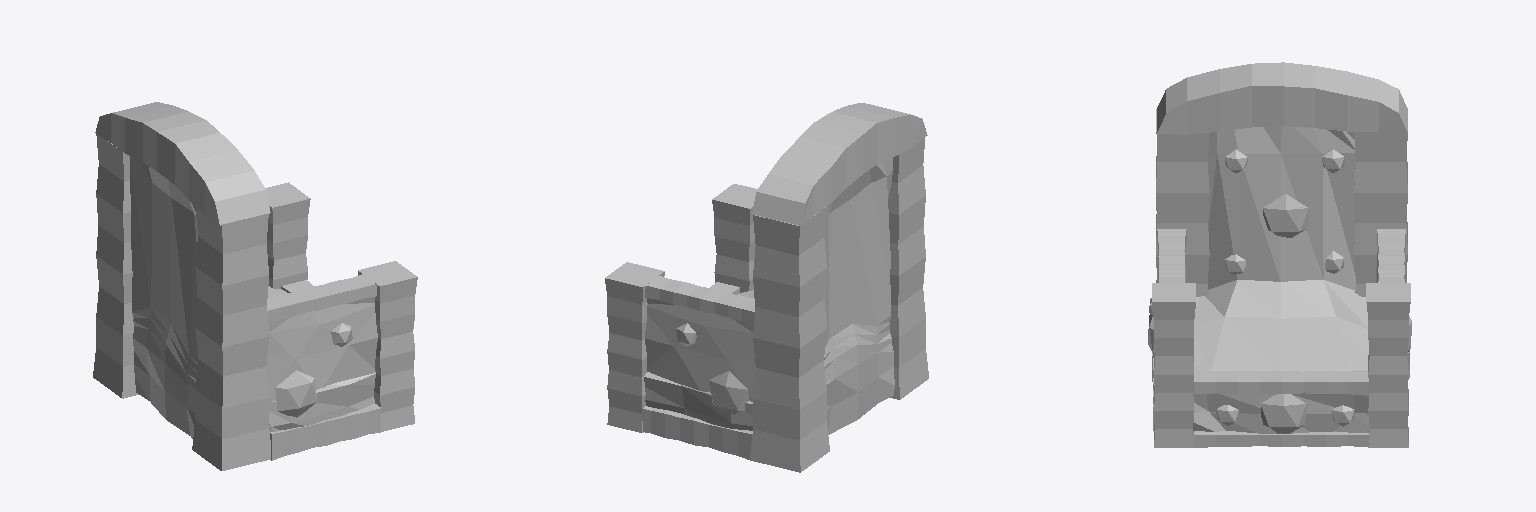
Rendered from Trône Gollémantery.obj.
3 renders of one model, left to right at view 1: azimuth 30°, elevation 25°; view 2: azimuth 150°, elevation 25°; view 3: azimuth 270°, elevation 25°, orthographic.
Visible parts, largest first — view 1: Cube.010_Cube.011, Icosphere.002, Icosphere.015_Icosphere.000, Cube.005_Cube.006, Cube.006_Cube.007, Cube.002_Cube.003, Cube.008_Cube.009, Icosphere.003_Icosphere.006; view 2: Cube.010_Cube.011, Icosphere.002, Icosphere.016_Icosphere.001, Cube.006_Cube.007, Cube.005_Cube.006, Cube.004_Cube.005, Cube.009_Cube.010, Icosphere.008_Icosphere.011; view 3: Icosphere.002, Cube.010_Cube.011, Cube.006_Cube.007, Cube.005_Cube.006, Cube.007_Cube.008, Cube.003_Cube.004, Cube.008_Cube.009, Cube.009_Cube.010, Icosphere_Icosphere.004, Icosphere.001_Icosphere.005.
Boxes of the visible parts, box(x1,y1,x2,y2) form: Cube.010_Cube.011: box(93, 102, 270, 470); Icosphere.002: box(130, 156, 375, 438); Icosphere.015_Icosphere.000: box(266, 297, 377, 401); Cube.005_Cube.006: box(358, 261, 417, 431); Cube.006_Cube.007: box(265, 182, 310, 288); Cube.002_Cube.003: box(270, 403, 380, 460); Cube.008_Cube.009: box(267, 274, 376, 323); Icosphere.003_Icosphere.006: box(275, 370, 316, 417); Cube.010_Cube.011: box(750, 103, 928, 472); Icosphere.002: box(644, 158, 894, 434); Icosphere.016_Icosphere.001: box(645, 298, 755, 401); Cube.006_Cube.007: box(605, 262, 664, 432); Cube.005_Cube.006: box(712, 184, 757, 292); Cube.004_Cube.005: box(635, 406, 752, 459); Cube.009_Cube.010: box(645, 276, 754, 324); Icosphere.008_Icosphere.011: box(708, 371, 748, 414); Icosphere.002: box(1153, 126, 1369, 433); Cube.010_Cube.011: box(1156, 62, 1409, 377); Cube.006_Cube.007: box(1366, 283, 1410, 447); Cube.005_Cube.006: box(1152, 283, 1195, 447); Cube.007_Cube.008: box(1194, 370, 1368, 394); Cube.003_Cube.004: box(1194, 431, 1368, 447); Cube.008_Cube.009: box(1157, 229, 1186, 282); Cube.009_Cube.010: box(1377, 229, 1405, 282); Icosphere_Icosphere.004: box(1263, 194, 1308, 237); Icosphere.001_Icosphere.005: box(1261, 394, 1306, 433).
Bounding box in the file's own units: 8.37 × 11.94 × 9.78.